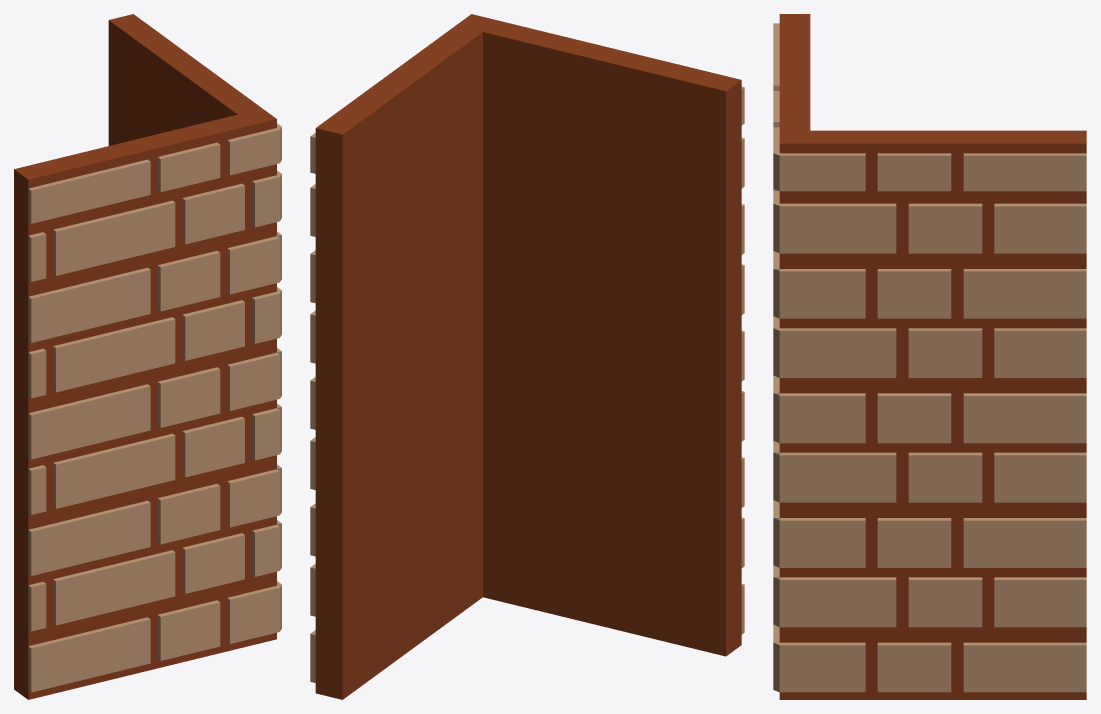
Rendered from BrickV1Corner.fbx.
The picture shows the model from 3 angles, left to right: view 1: azimuth 30°, elevation 25°; view 2: azimuth 150°, elevation 25°; view 3: azimuth 270°, elevation 25°; orthographic projection. The views are drawn at different scales.
Parts seen in each view (by area): view 1: BrickV1Corner; view 2: BrickV1Corner; view 3: BrickV1Corner.
Part boxes in pixels (x1,y1,x2,y2): BrickV1Corner: (14,14,281,699); BrickV1Corner: (310,14,744,699); BrickV1Corner: (773,14,1086,699).
Size of the model in its own units: 102 by 200 by 102.
